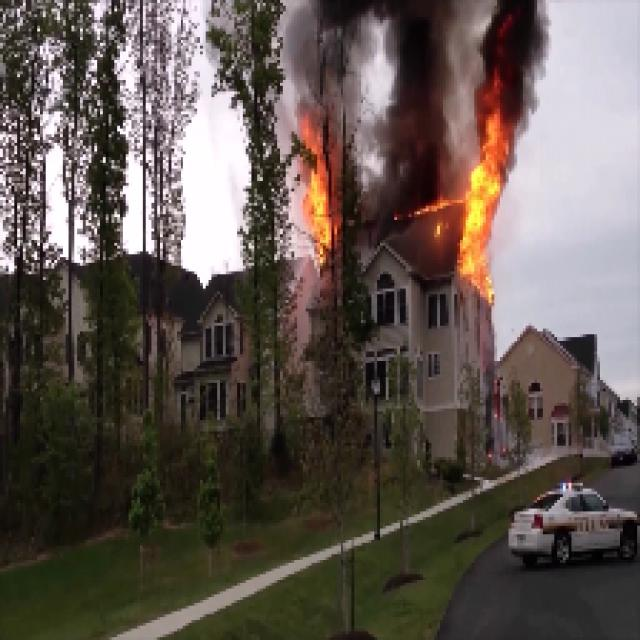fire: (466, 102, 508, 282)
smoke: (380, 8, 461, 199), (486, 0, 543, 92)
